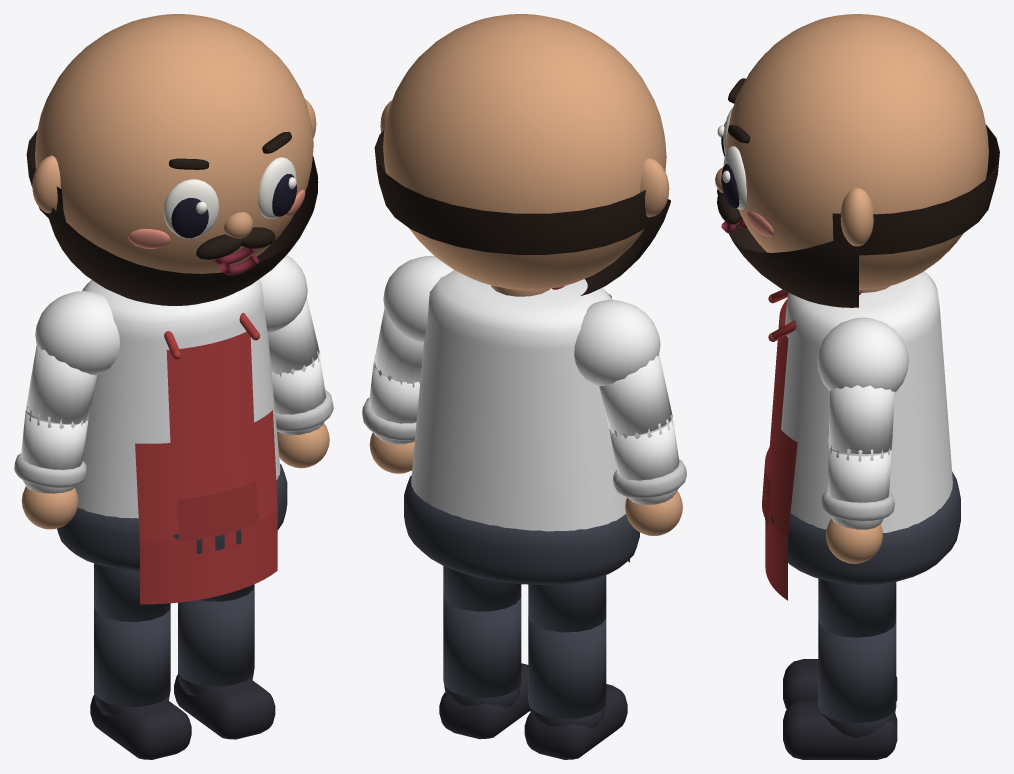
File: ch_ashot.fbx
3 views of the same model, side by side, from view 1: azimuth 30°, elevation 25°; view 2: azimuth 150°, elevation 25°; view 3: azimuth 270°, elevation 25° (orthographic).
Visible parts, largest first — view 1: ch_ashot; view 2: ch_ashot; view 3: ch_ashot.
Part boxes in pixels (left/top/right/bottom): ch_ashot: left=14, top=14, right=333, bottom=759; ch_ashot: left=362, top=14, right=686, bottom=759; ch_ashot: left=715, top=14, right=999, bottom=759.
Bounding box in the file's own units: 0.729 × 1.57 × 0.5777.
